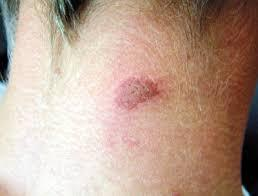Spider: (105, 66, 161, 116)
